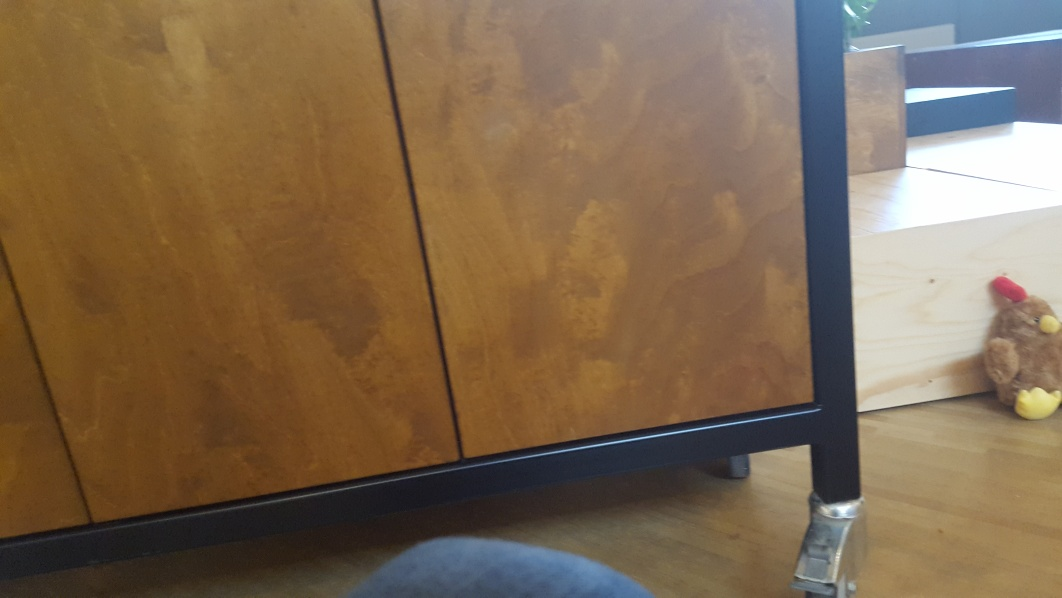chicken: (969, 272, 1062, 418)
